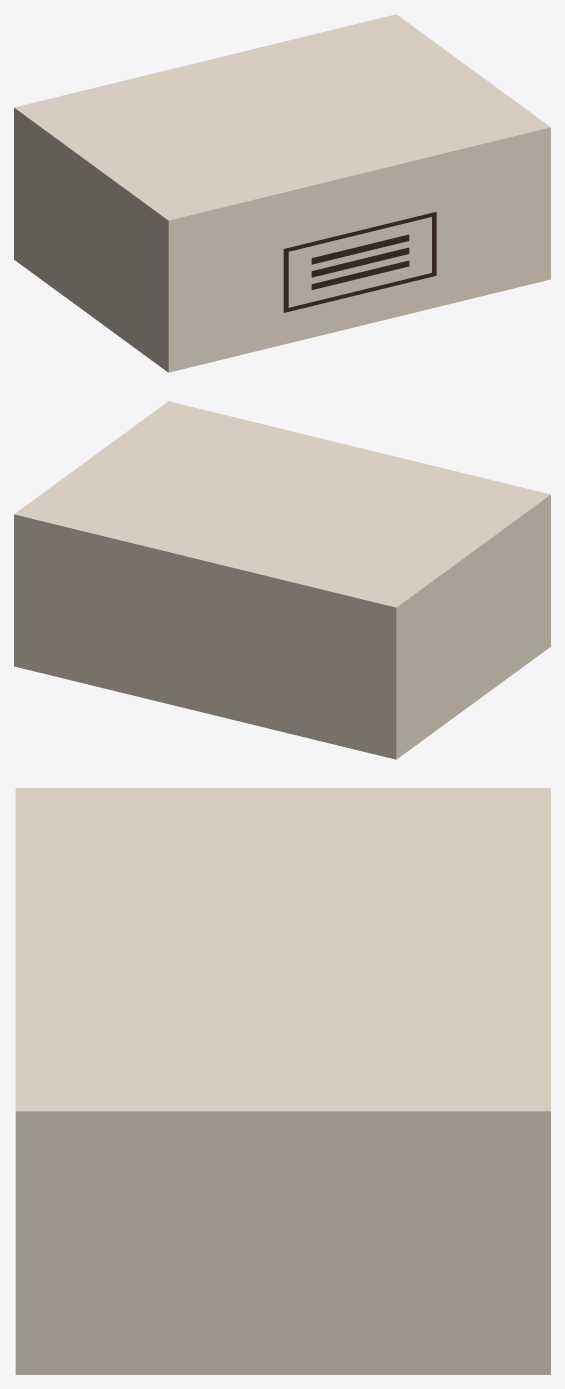
File: hako-test.glb
3 views of the same model, one above another, from view 1: azimuth 30°, elevation 25°; view 2: azimuth 150°, elevation 25°; view 3: azimuth 270°, elevation 25° (orthographic). The views are drawn at different scales.
Parts seen in each view (by area): view 1: Case_Lid, Case_Base, Logo_Decal; view 2: Case_Lid, Case_Base; view 3: Case_Lid, Case_Base.
Part boxes in pixels (left/top/right/bottom): Case_Lid: left=14, top=14, right=550, bottom=244; Case_Base: left=14, top=132, right=550, bottom=372; Logo_Decal: left=283, top=212, right=436, bottom=312; Case_Lid: left=14, top=401, right=550, bottom=631; Case_Base: left=14, top=519, right=550, bottom=759; Case_Lid: left=15, top=788, right=550, bottom=1152; Case_Base: left=15, top=1153, right=550, bottom=1374.
Bounding box in the file's own units: 0.1 × 0.038 × 0.0702.
Materials: 7 (1 with a texture image).
